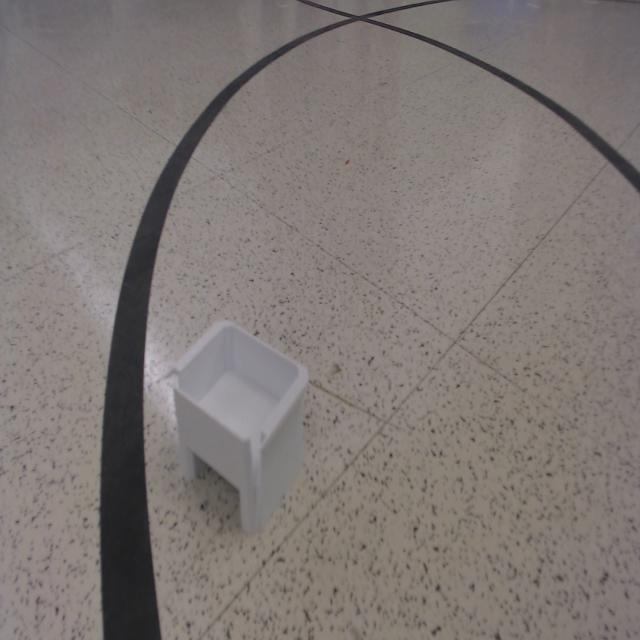wbox: (170, 316, 310, 535)
